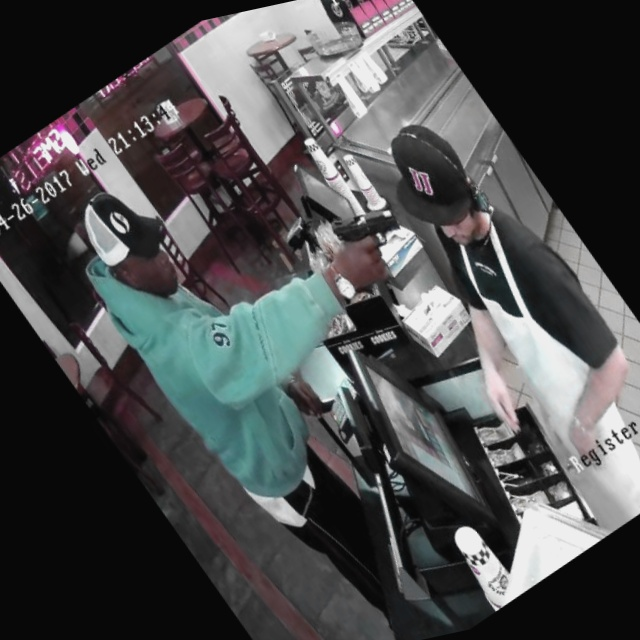gun: (300, 161, 430, 294)
